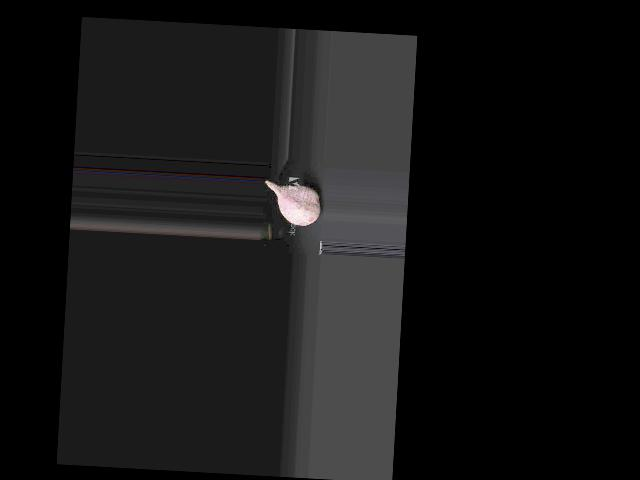beet: (263, 181, 321, 227)
